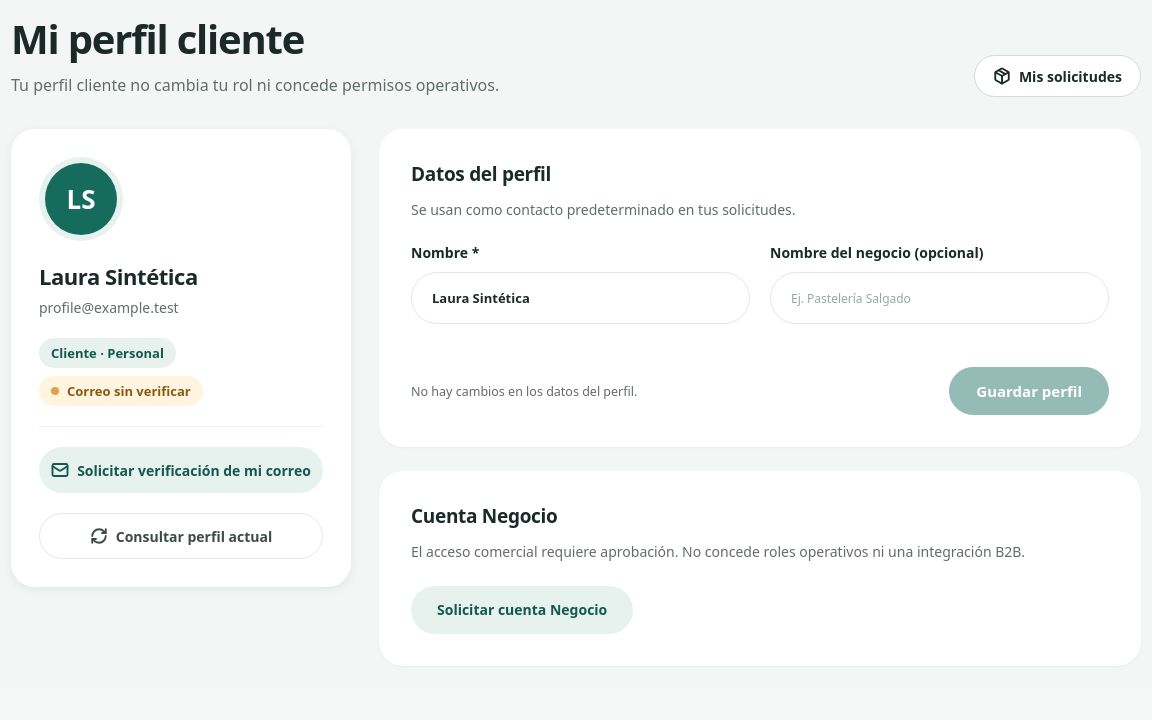
Test: capacity failure does not enable direct upgrade nor block independent profile editing
Replace the text in the field labelled "Nombre *" with "Nuevo nombre": (580, 298) x1=411 y1=272 x2=750 y2=324
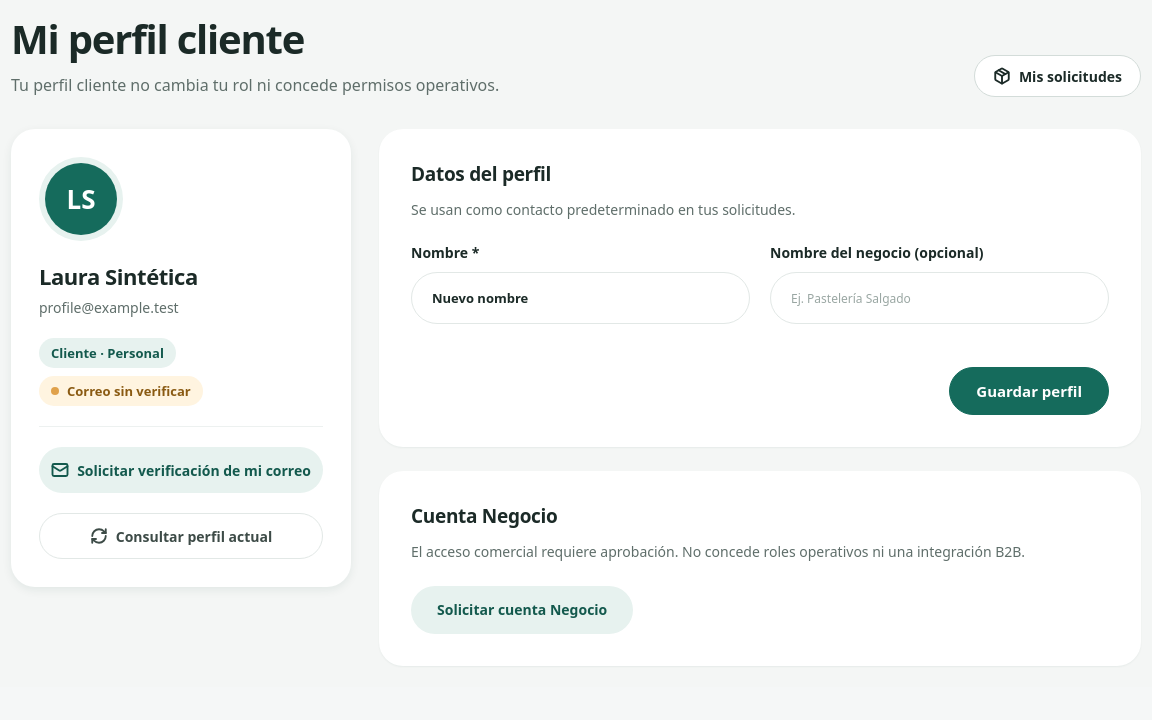
Expected: the button "Guardar perfil" is enabled, x1=949 y1=367 x2=1109 y2=415
